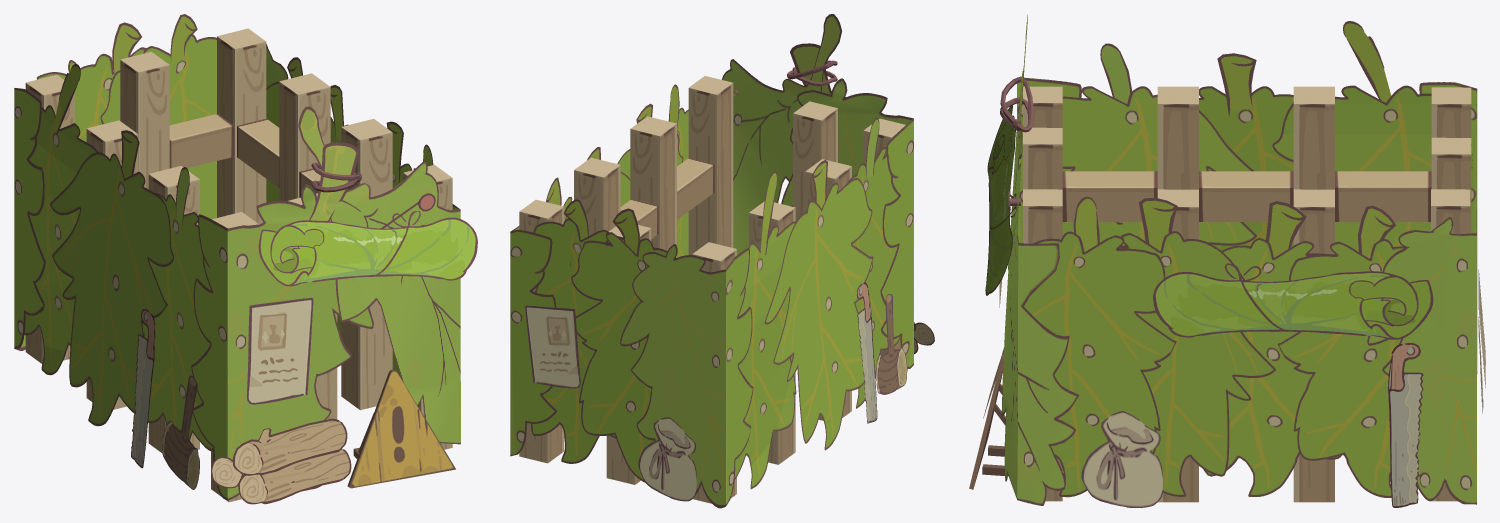
Rendered from Mesh_Home_Construction_32_SM.fbx.
3 renders of one model, left to right at view 1: azimuth 30°, elevation 25°; view 2: azimuth 150°, elevation 25°; view 3: azimuth 270°, elevation 25°, orthographic. The views are drawn at different scales.
Parts seen in each view (by area): view 1: Mesh_Home_Construction_32, Mesh_Home_Construction_32_P; view 2: Mesh_Home_Construction_32, Mesh_Home_Construction_32_P; view 3: Mesh_Home_Construction_32_P, Mesh_Home_Construction_32.
Part boxes in pixels (x1=…): Mesh_Home_Construction_32: x1=14, y1=28, x2=460, y2=502; Mesh_Home_Construction_32_P: x1=24, y1=14, x2=477, y2=504; Mesh_Home_Construction_32: x1=510, y1=59, x2=913, y2=508; Mesh_Home_Construction_32_P: x1=525, y1=14, x2=934, y2=501; Mesh_Home_Construction_32_P: x1=983, y1=15, x2=1485, y2=507; Mesh_Home_Construction_32: x1=969, y1=76, x2=1477, y2=505.
Size of the model in its own units: 210 by 281 by 317.
1 material, 1 textured.
